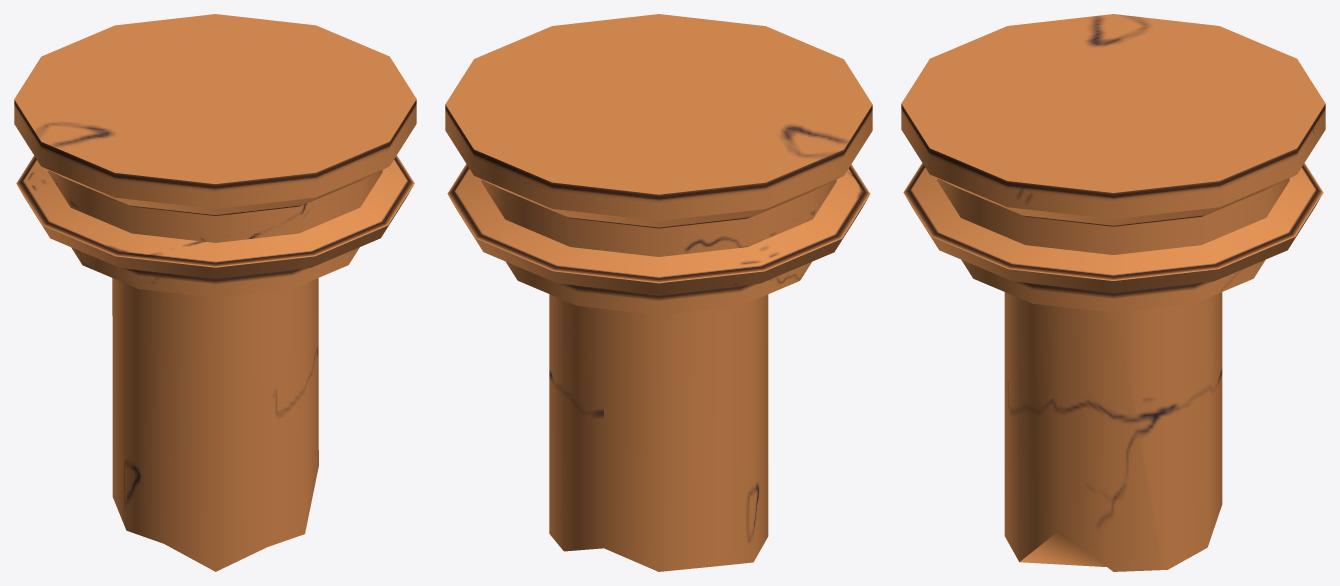
Rendered from BrokenPillar_Top2.fbx.
3 views of the same model, side by side, from view 1: azimuth 30°, elevation 25°; view 2: azimuth 150°, elevation 25°; view 3: azimuth 270°, elevation 25° (orthographic). The views are drawn at different scales.
Visible parts, largest first — view 1: Broken_Top_3; view 2: Broken_Top_3; view 3: Broken_Top_3.
Boxes of the visible parts, bbox=[...] form: Broken_Top_3: bbox=[14, 14, 416, 571]; Broken_Top_3: bbox=[445, 14, 872, 571]; Broken_Top_3: bbox=[901, 14, 1325, 571].
Size of the model in its own units: 390 by 390 by 460.
